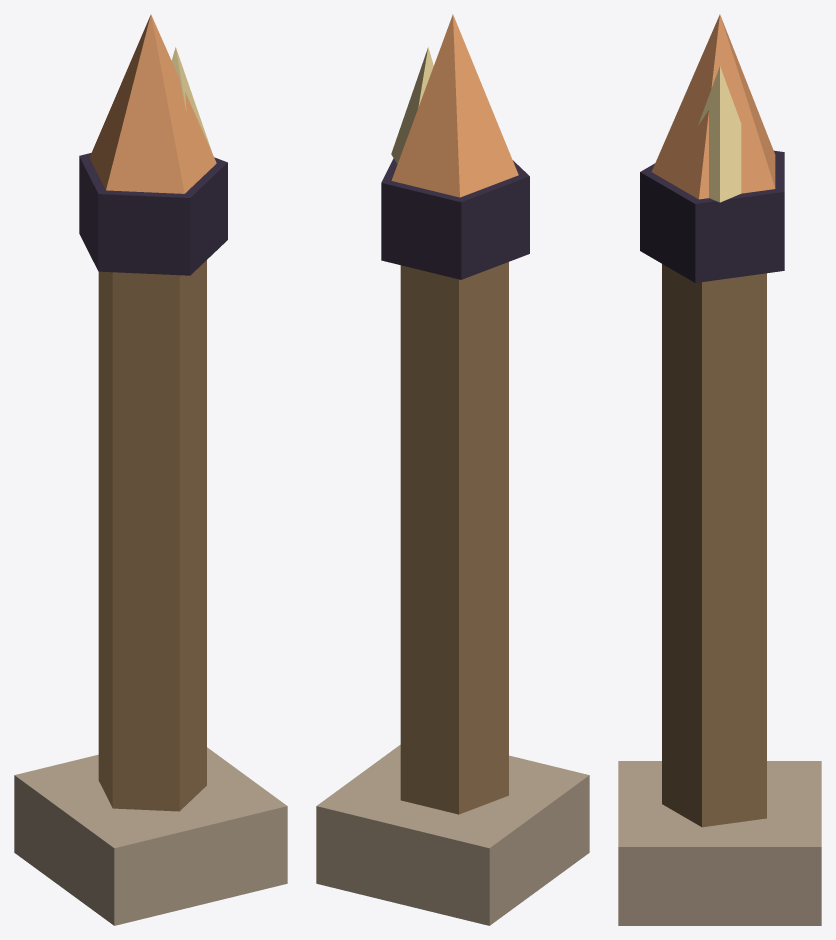
File: torch.glb
The picture shows the model from 3 angles, left to right: view 1: azimuth 30°, elevation 25°; view 2: azimuth 150°, elevation 25°; view 3: azimuth 270°, elevation 25°; orthographic projection.
Parts seen in each view (by area): view 1: medieval-torch; view 2: medieval-torch; view 3: medieval-torch.
Part boxes in pixels (box(x1,y1,x2,y2)): medieval-torch: box(14, 14, 287, 925); medieval-torch: box(316, 14, 589, 925); medieval-torch: box(618, 14, 821, 925).
Size of the model in its own units: 0.14 by 0.66 by 0.14.
